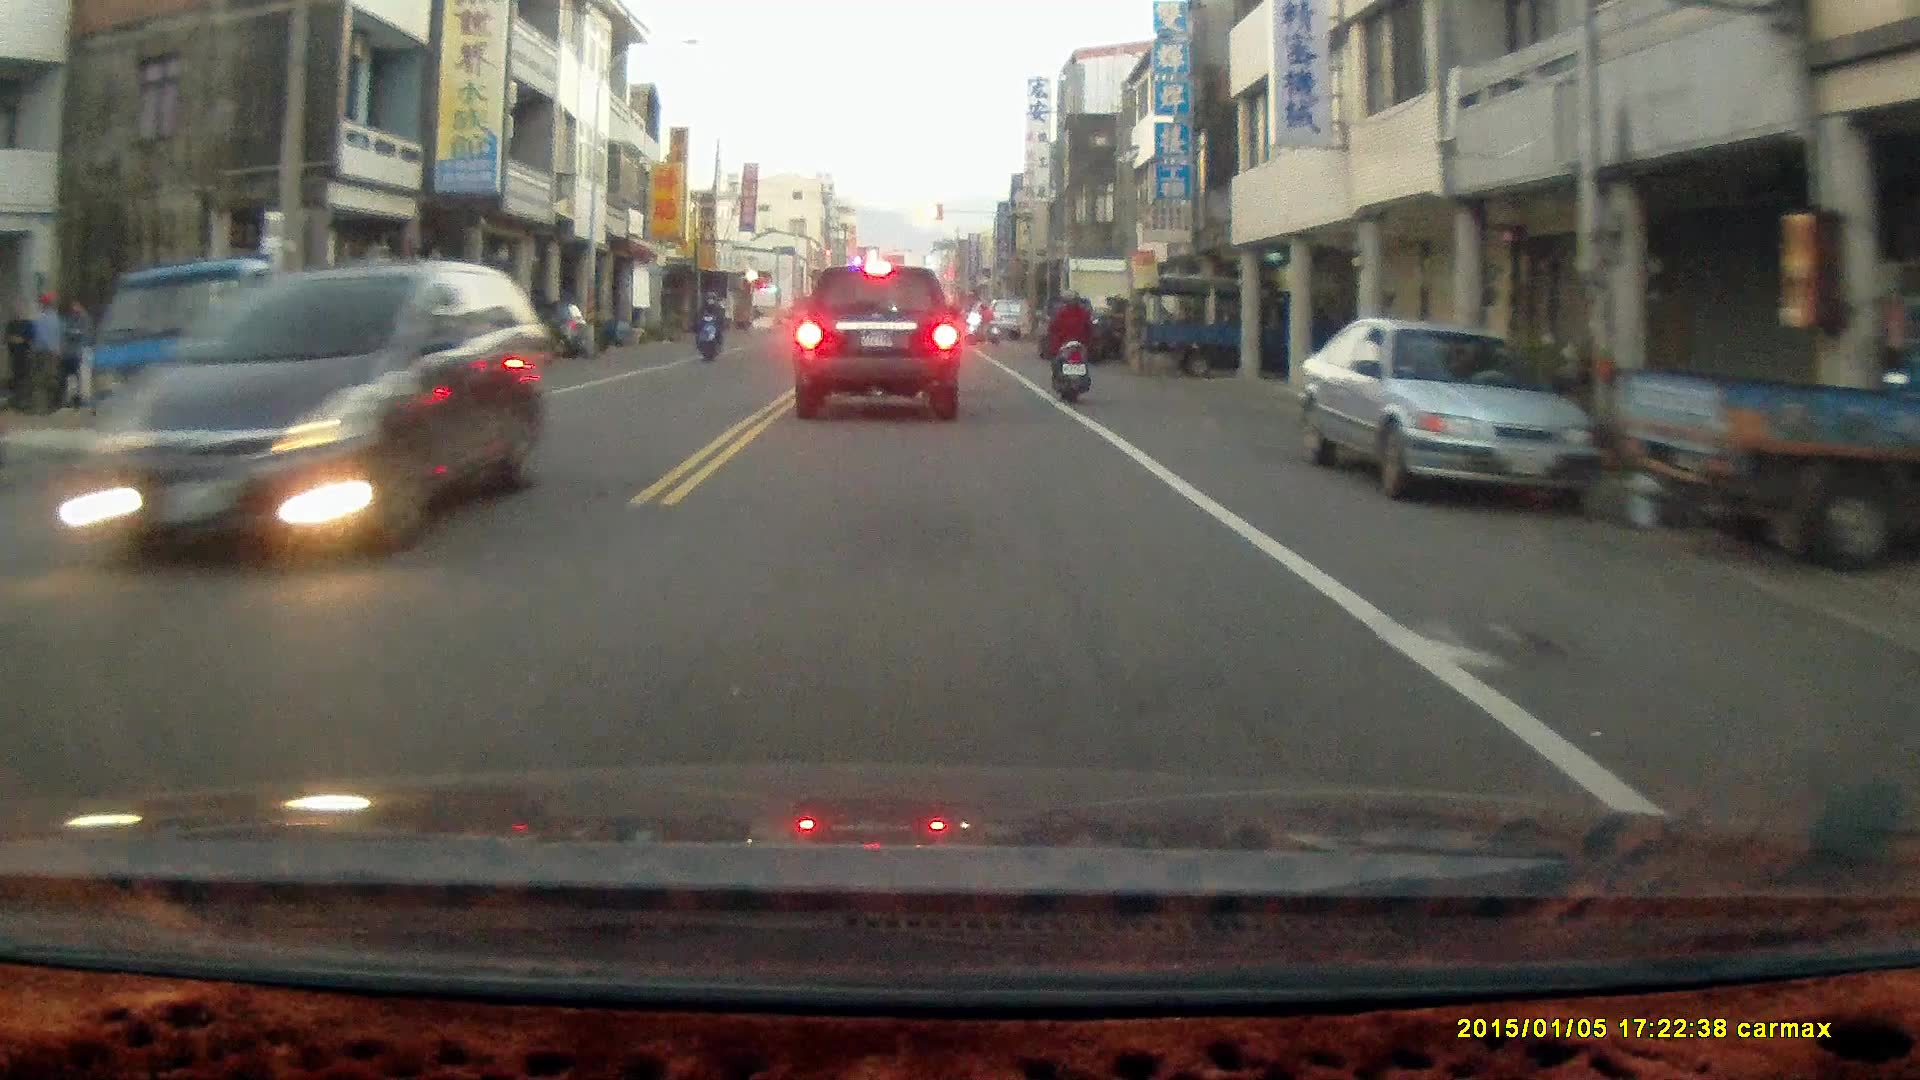pedestrian: (28, 287, 62, 412), (54, 294, 89, 413), (6, 299, 35, 410)
rider: (1046, 286, 1094, 404), (692, 291, 726, 361), (964, 300, 1001, 346)
vehicle: (91, 257, 540, 565), (1615, 275, 1920, 576), (1296, 314, 1611, 514), (107, 251, 359, 454), (793, 261, 964, 426), (1137, 270, 1351, 375)
